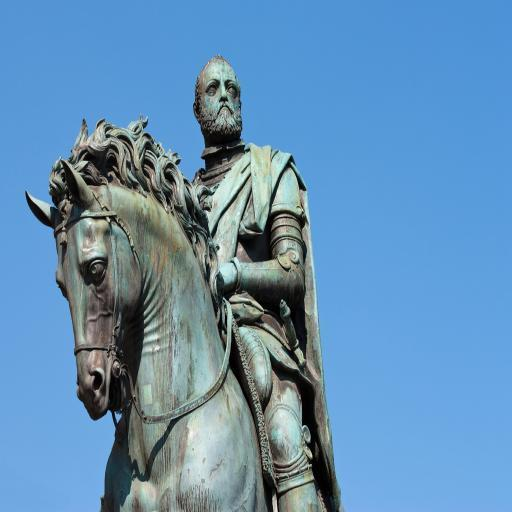horse: (24, 110, 344, 512)
